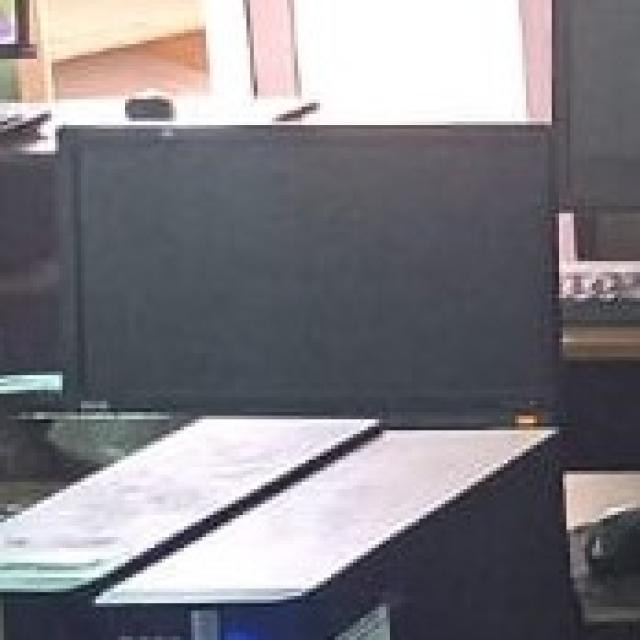offscreen: (61, 124, 550, 406)
